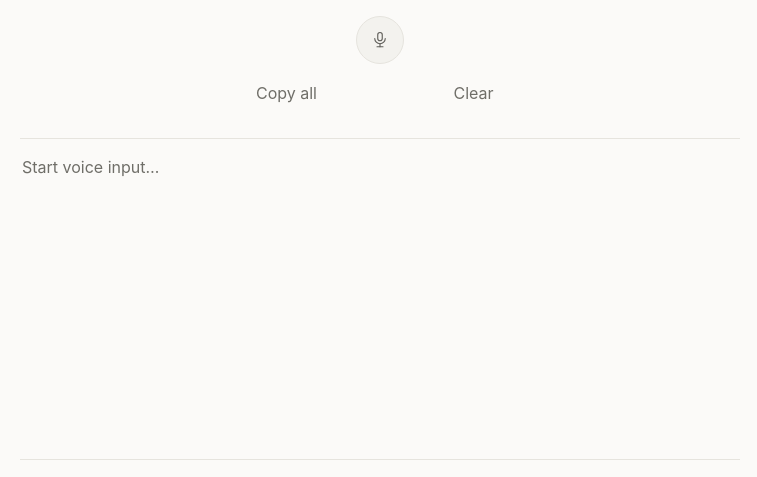
Test: VoiceView › groups title and body hits like the search menu
The image size is (757, 477).
Type "spoken words" into the text box with placeholder "Start voice input…". click: [380, 299]
box: 20,139 -> 740,459
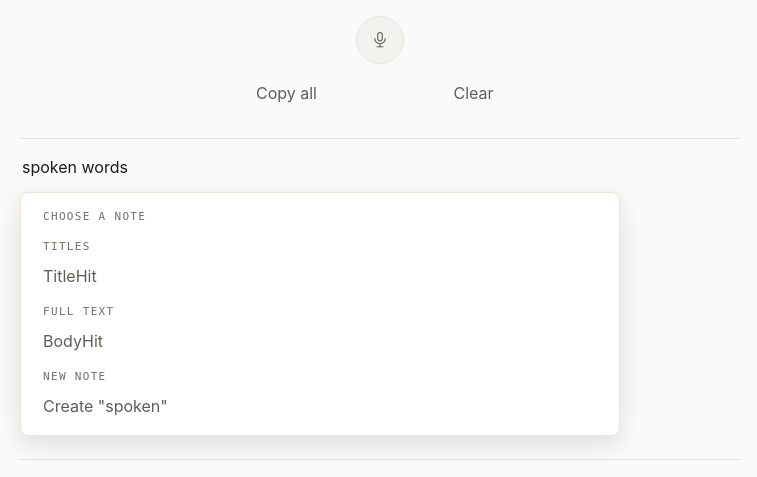
Expected: the heading "Titles" is shown, 43,240 -> 91,253
Expected: the heading "Full text" is shown, 43,305 -> 114,318
Expected: the button "TitleHit" is shown, 33,259 -> 575,293
